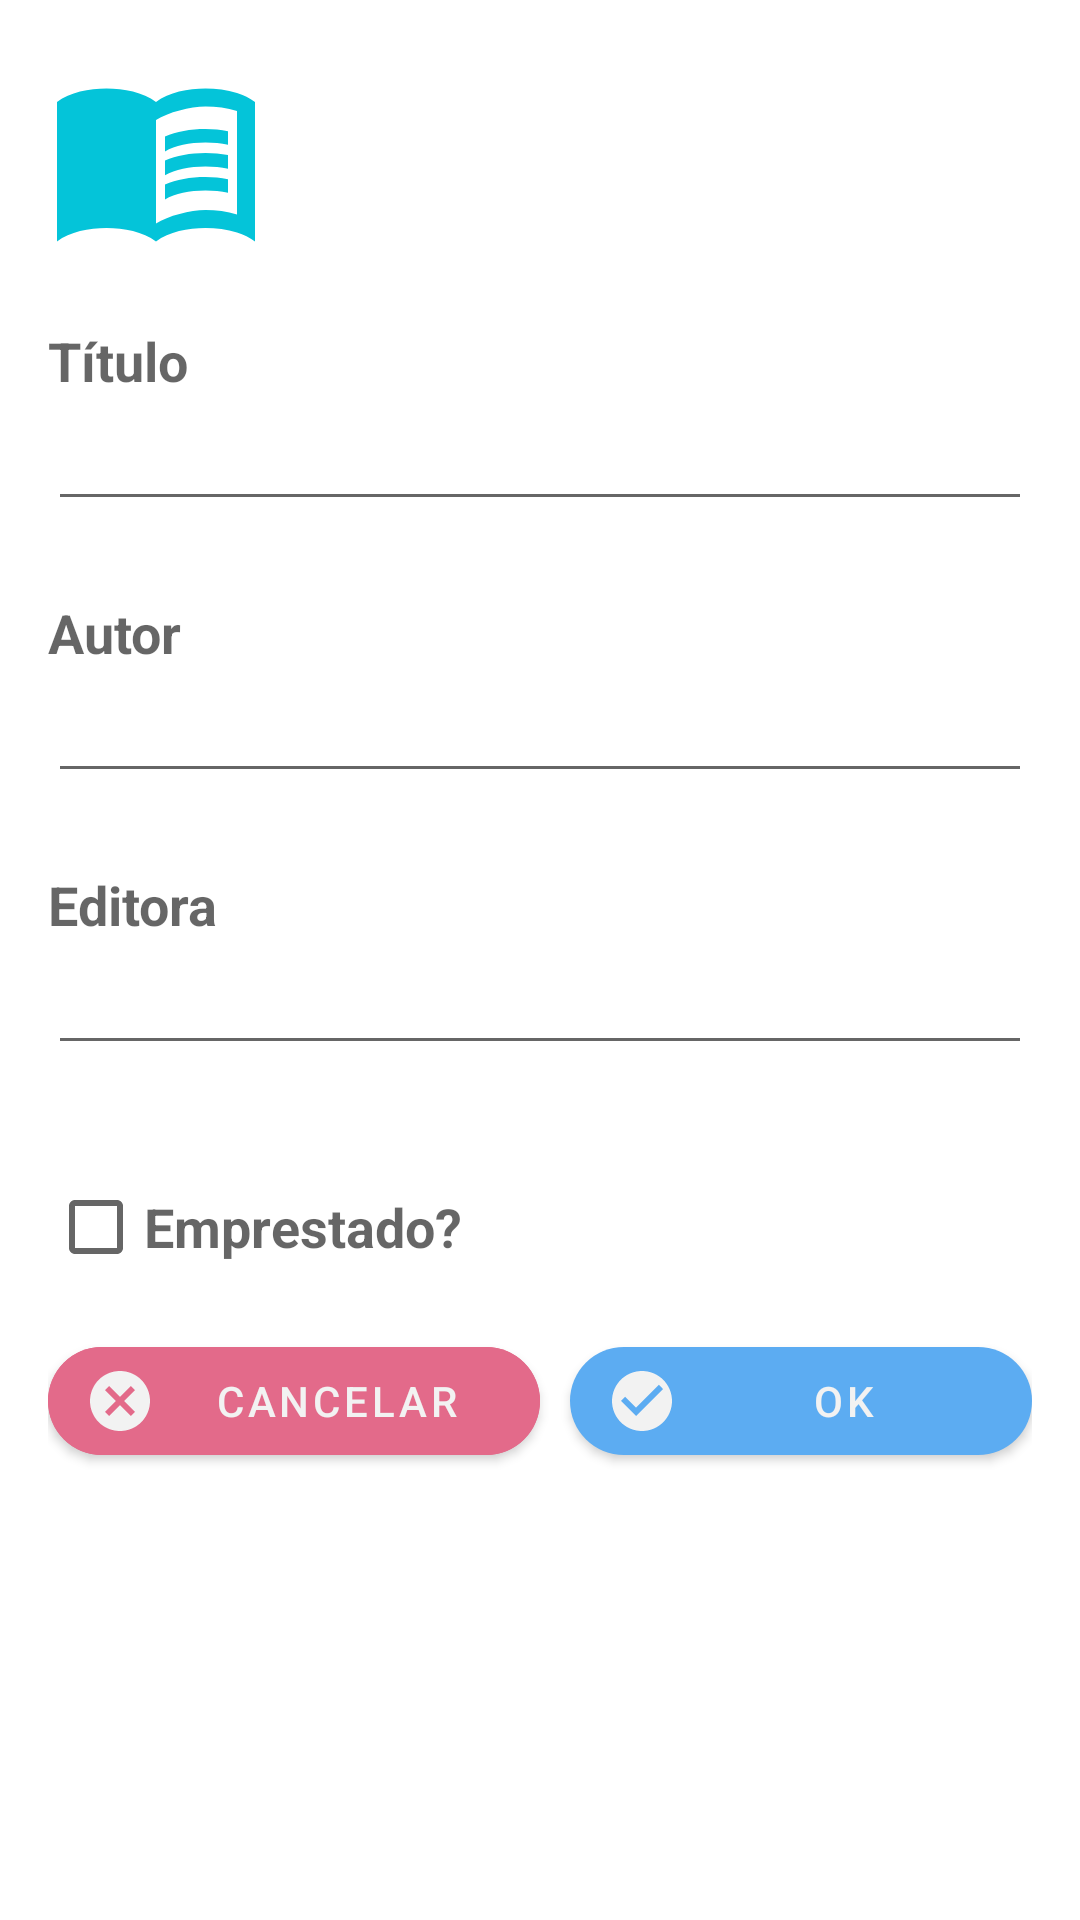

Where icons sit on this 1080 × 1920 app screen, as (x1, y1, x2, y2):
Livro: (57, 88, 255, 242)
